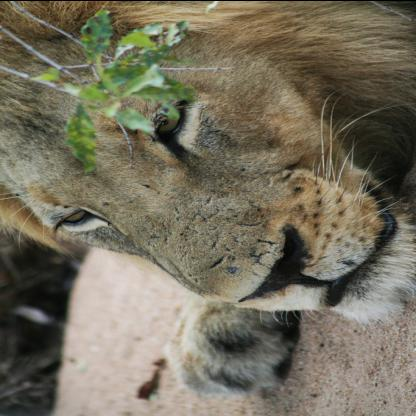lion: (4, 20, 404, 326)
